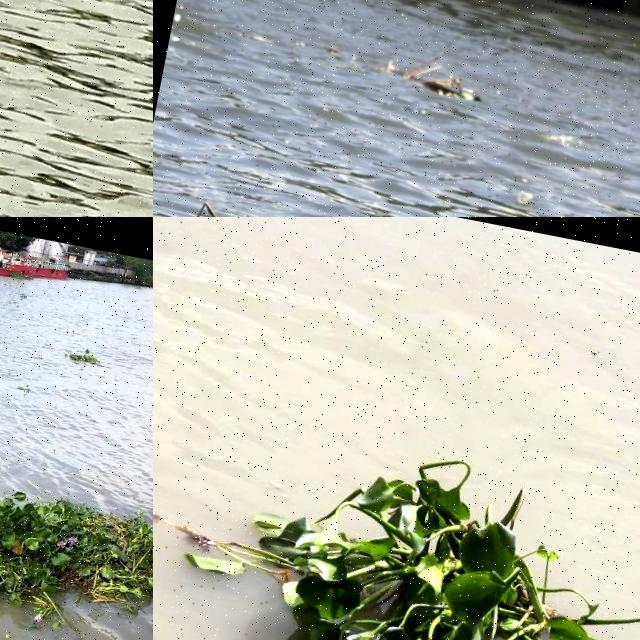water-hyacinth: (169, 456, 640, 640), (1, 493, 154, 640), (64, 348, 98, 365)
